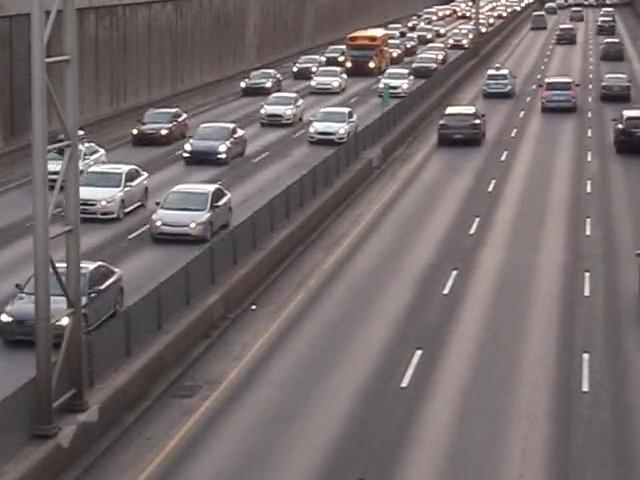bus: (345, 29, 390, 77)
car: (0, 253, 138, 355), (146, 175, 240, 250), (430, 93, 497, 158), (75, 162, 149, 220), (47, 142, 110, 194), (183, 121, 247, 165), (601, 101, 640, 164), (132, 107, 190, 145), (305, 106, 359, 145), (257, 93, 306, 127), (539, 79, 579, 113), (240, 68, 285, 96), (377, 68, 416, 99), (308, 66, 349, 95), (409, 47, 448, 75), (598, 71, 633, 102), (482, 68, 517, 98), (292, 54, 327, 79), (320, 45, 350, 70), (444, 27, 475, 51), (599, 37, 626, 61), (595, 16, 617, 36), (530, 10, 547, 30), (568, 5, 586, 21)
